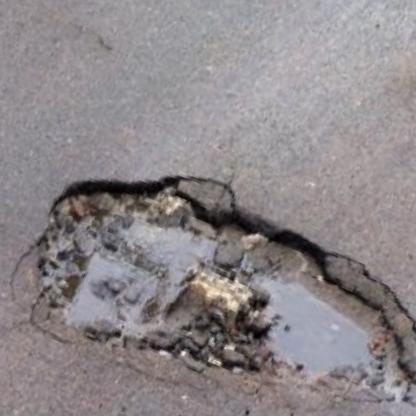pothole: (5, 126, 416, 416)
